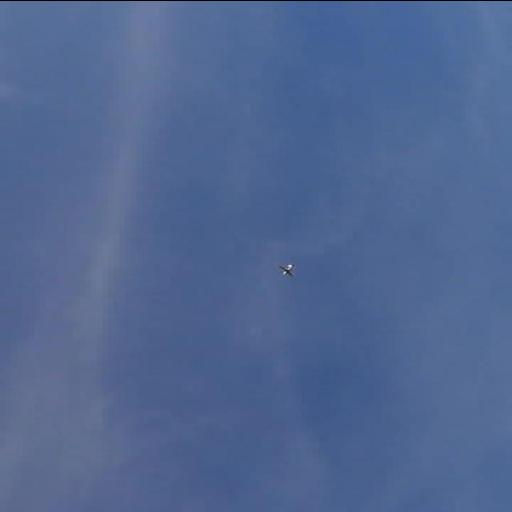uav: (276, 257, 306, 281)
